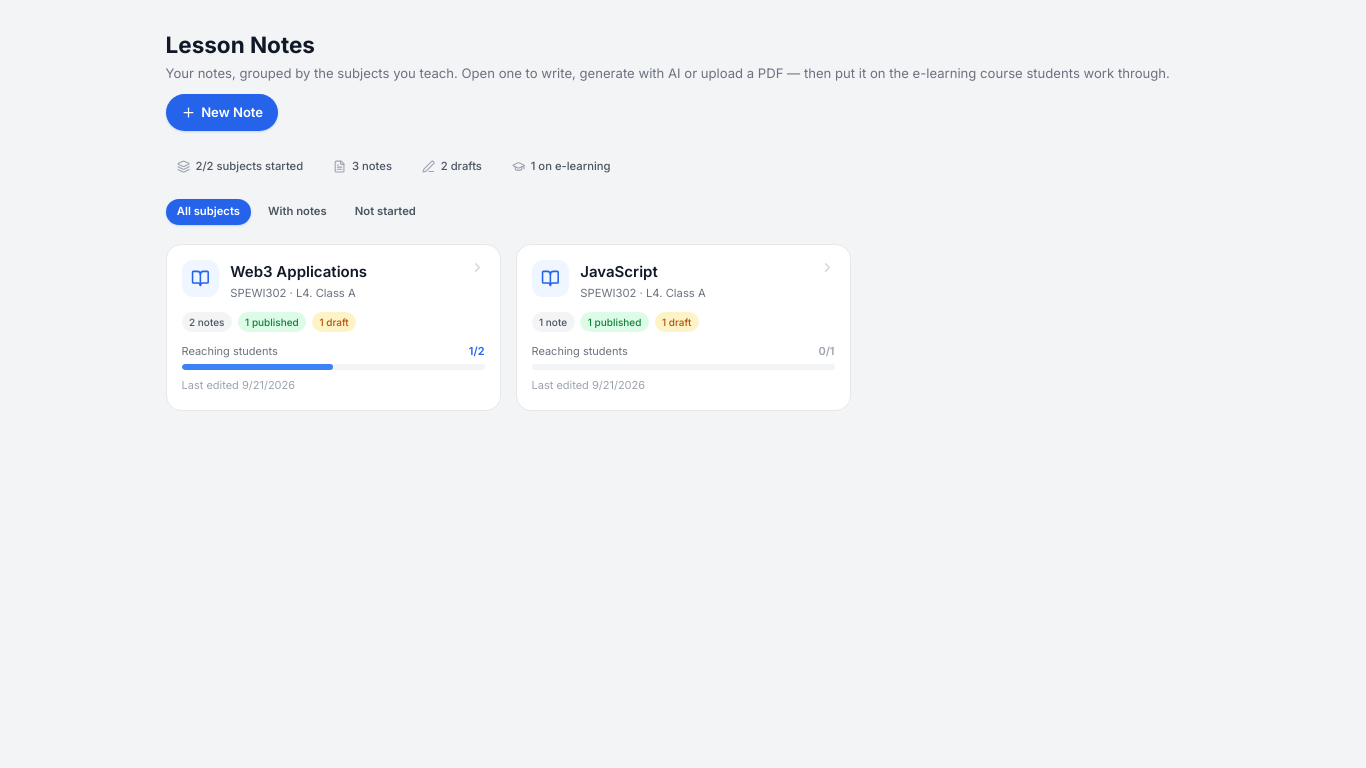
it: LessonNotesListPage — subject-first browsing and e-learning linkage › opens the e-learning panel from an unlinked note and places it in the suggested week
The width and height of the screenshot is (1366, 768).
Click the heading "Web3 Applications" at (299, 271), box [230,262,367,281]
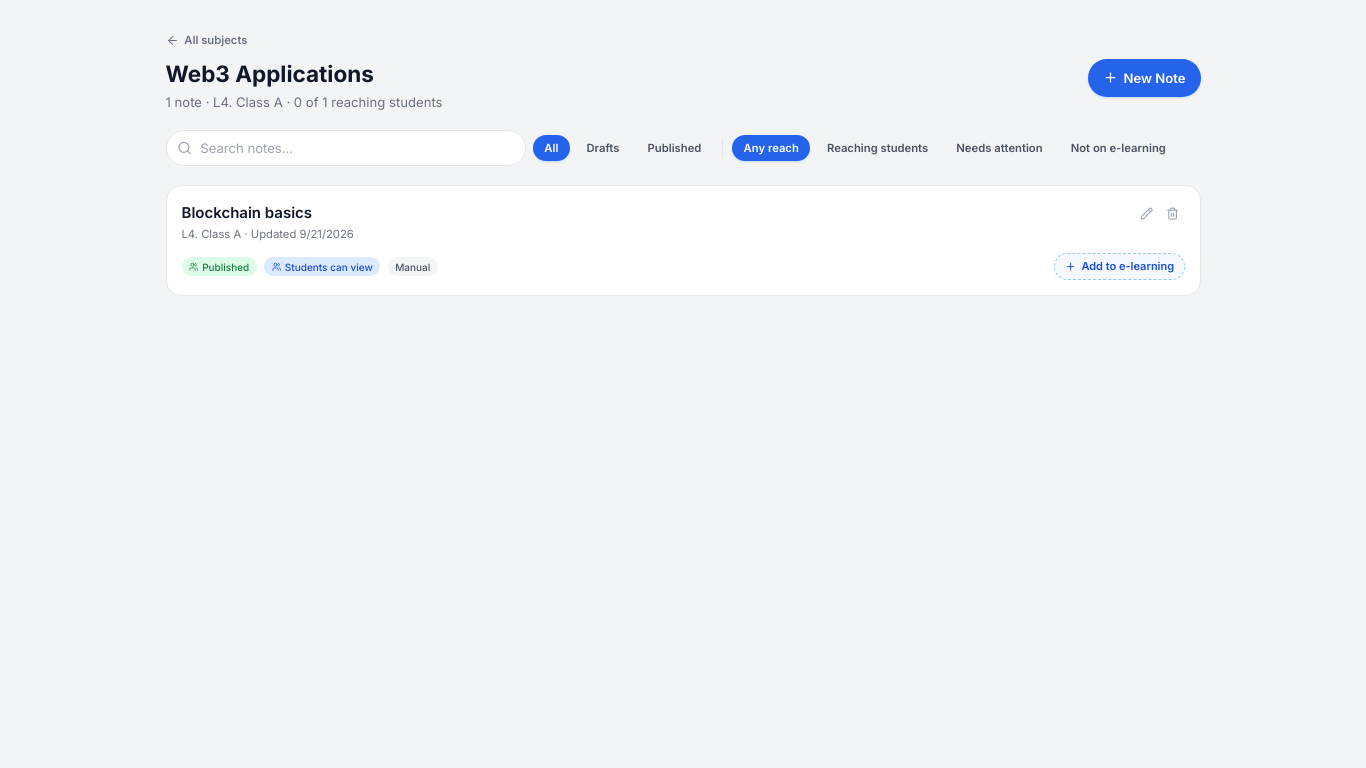
// Exact name: the note card is itself a button whose name contains the chip's text.
Click the button "Add to e-learning" at (1119, 267), box [1054,253,1184,280]
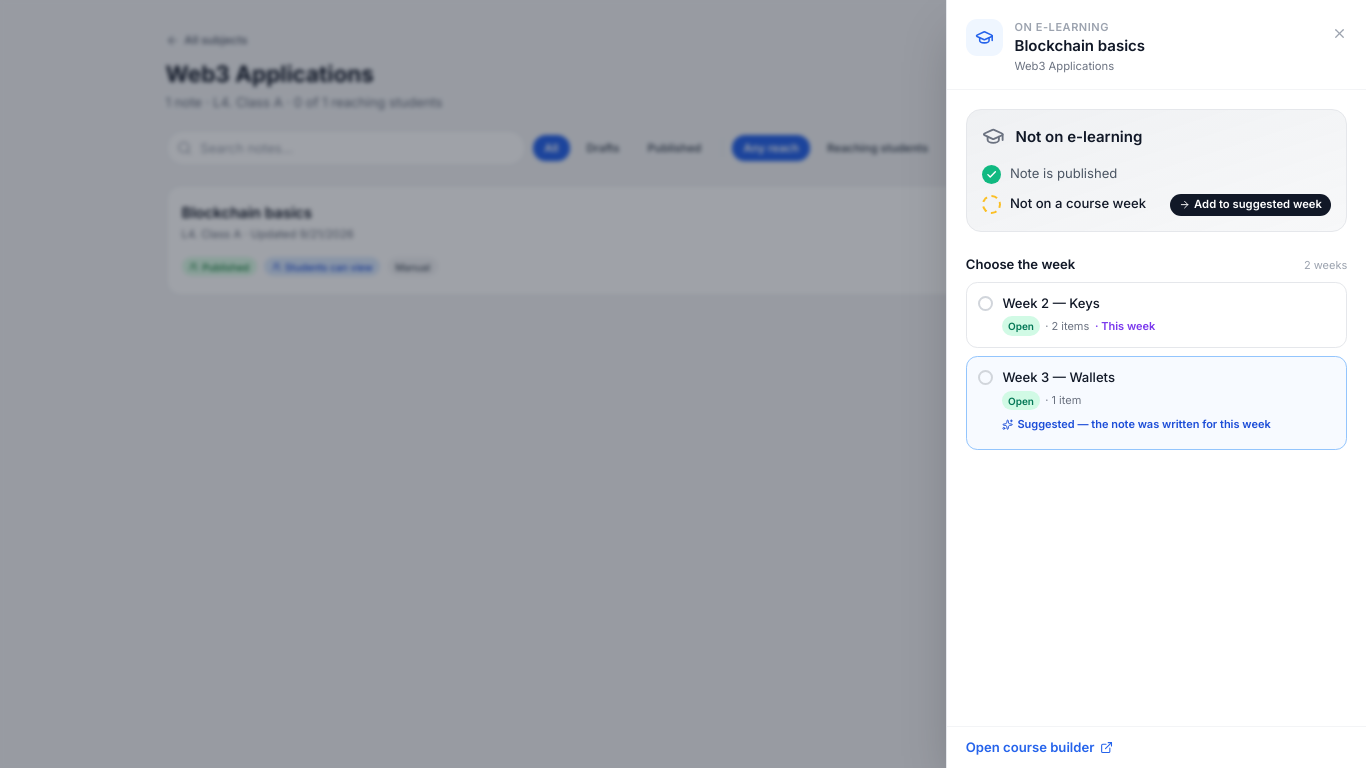
Expected: the text "Suggested — the note was written for this week" is shown, [1002,416,1271,434]
// Placement is a choice now, not a blind guess: the suggested week is one click away.
Click the button "Add to suggested week" at (1250, 205), box [1170,194,1331,216]
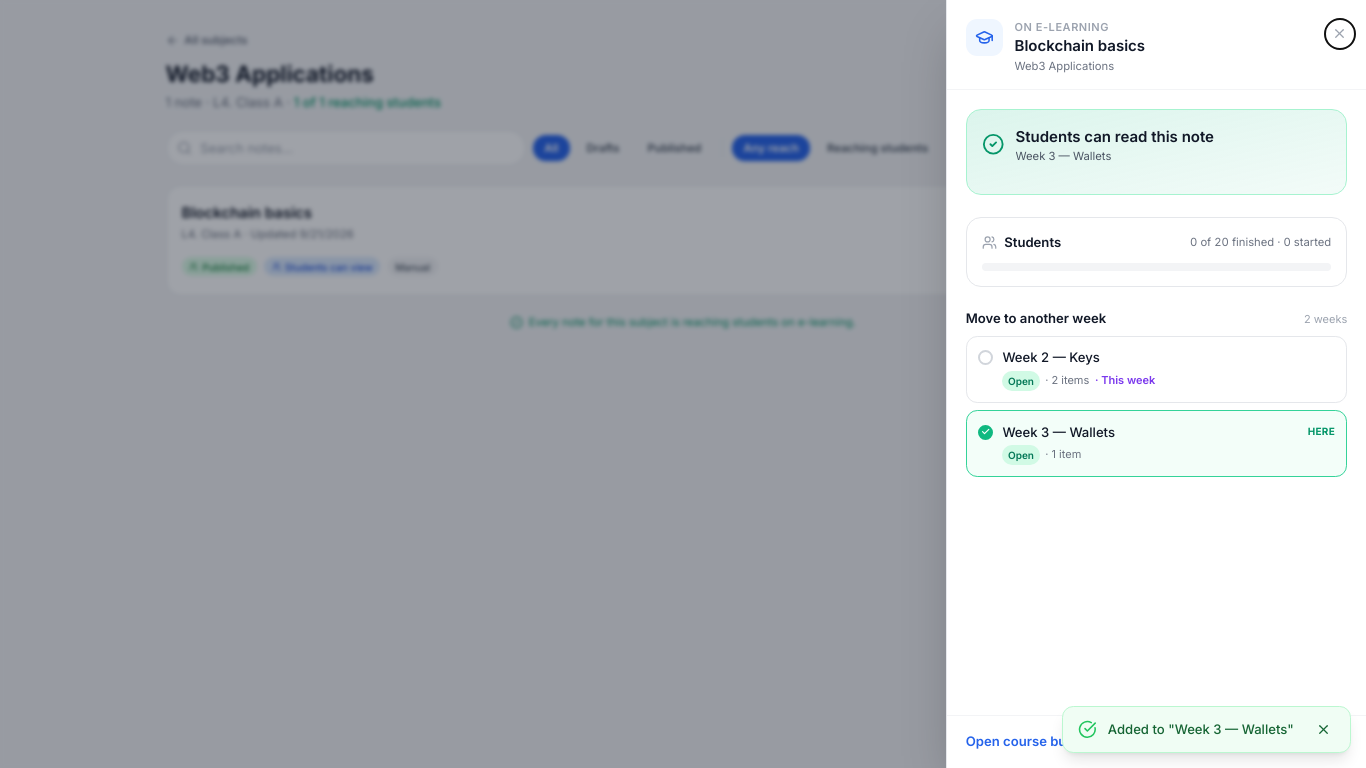
Expected: the text "0 of 20 finished · 0 started" is shown, [1190,235,1331,250]
